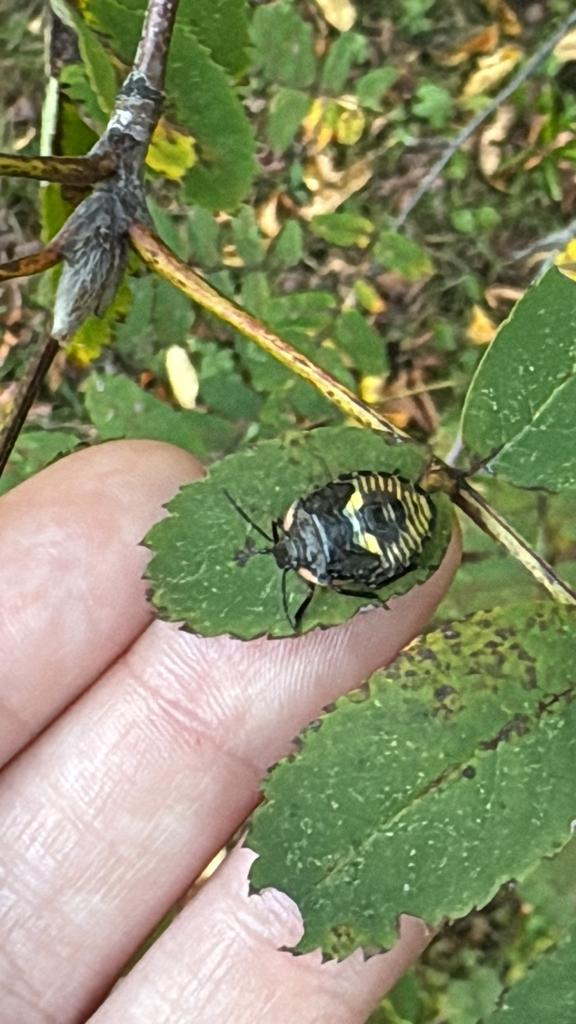stink_bugs: (175, 399, 492, 667)
